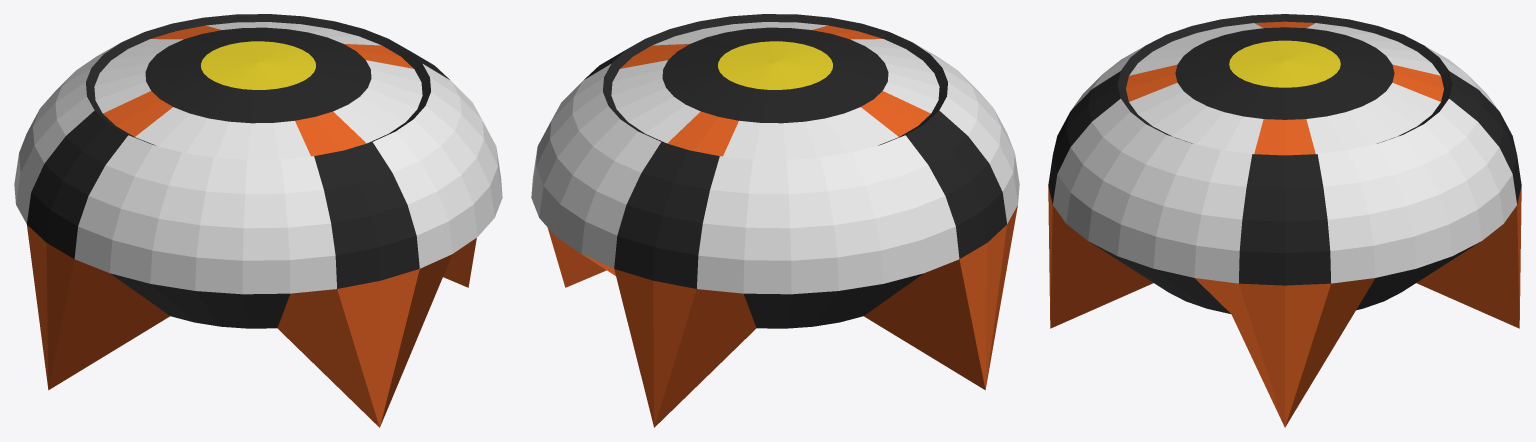
The model's file is drone.glb.
3 renders of one model, left to right at view 1: azimuth 30°, elevation 25°; view 2: azimuth 150°, elevation 25°; view 3: azimuth 270°, elevation 25°, orthographic. The views are drawn at different scales.
Parts seen in each view (by area): view 1: Sphere; view 2: Sphere; view 3: Sphere.
Boxes of the visible parts, <box> form: Sphere: <box>14,14,502,427</box>; Sphere: <box>531,14,1019,427</box>; Sphere: <box>1048,14,1521,427</box>.
Bounding box in the file's own units: 2 × 1.25 × 2.
